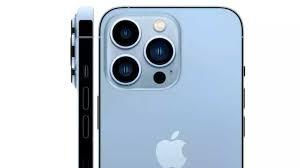Smartphone: (97, 13, 237, 168), (72, 5, 100, 168)
